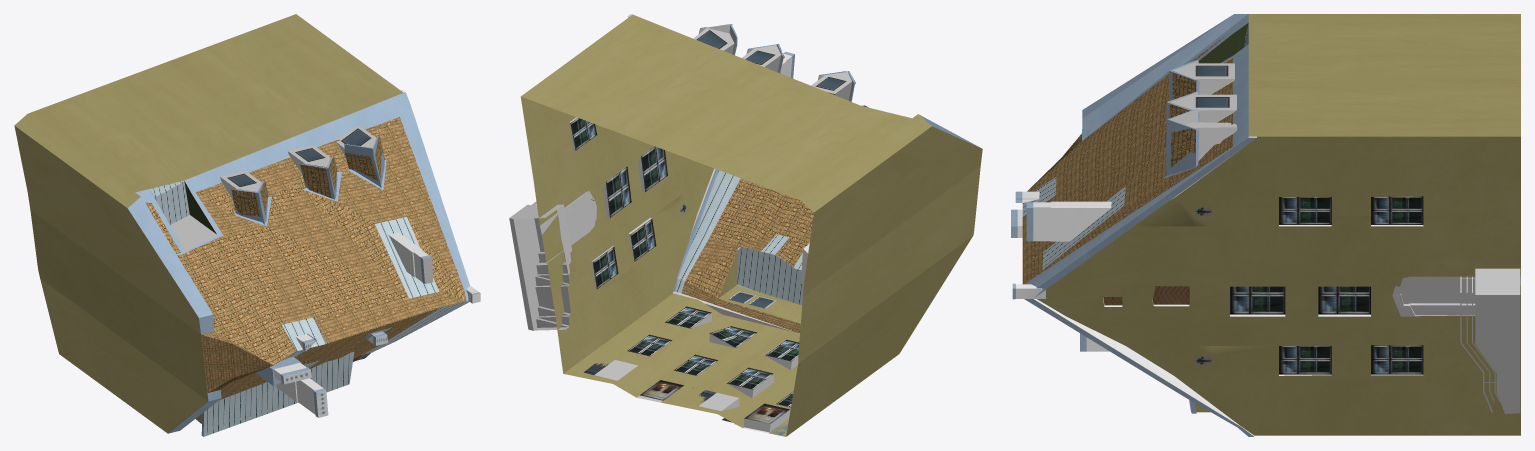
The model's file is Apteegi_3-origo.obj.
3 views of the same model, side by side, from view 1: azimuth 30°, elevation 25°; view 2: azimuth 150°, elevation 25°; view 3: azimuth 270°, elevation 25° (orthographic). The views are drawn at different scales.
Parts seen in each view (by area): view 1: Apteegi_3; view 2: Apteegi_3; view 3: Apteegi_3.
Boxes of the visible parts, box(x1,y1,x2,y2) form: Apteegi_3: box(14, 14, 480, 436); Apteegi_3: box(509, 14, 982, 436); Apteegi_3: box(1011, 14, 1520, 436).
Size of the model in its own units: 17.94 by 16 by 21.36.
